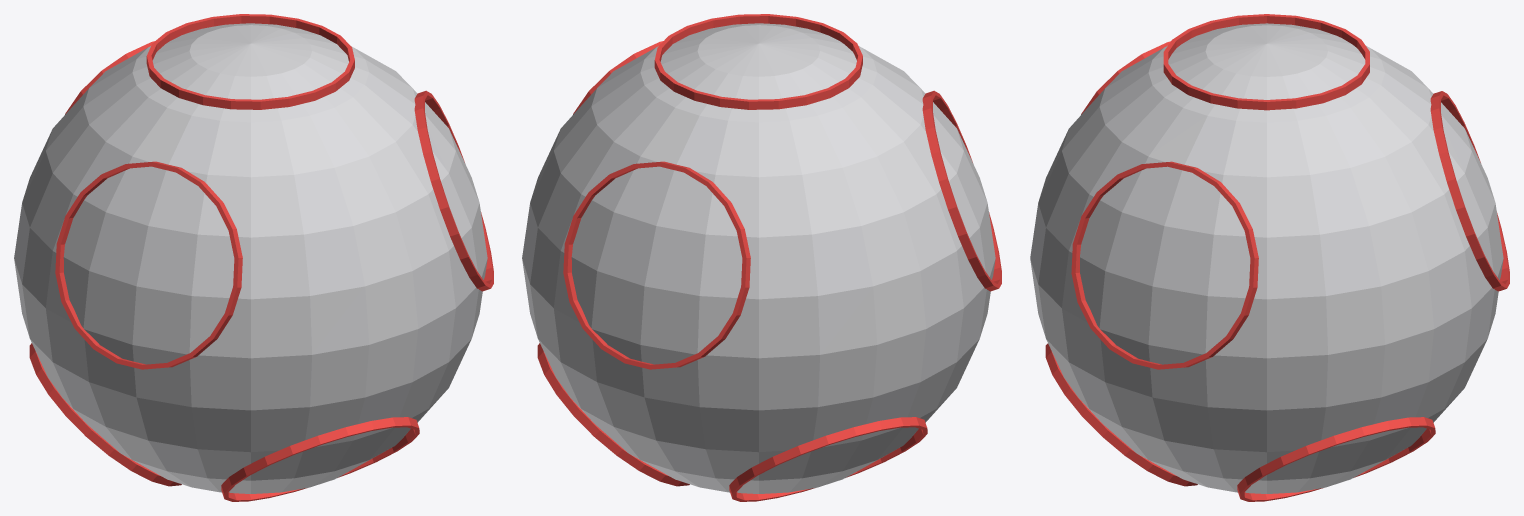
The model's file is vge_e_gravhulk_orb.obj.
3 renders of one model, left to right at view 1: azimuth 30°, elevation 25°; view 2: azimuth 150°, elevation 25°; view 3: azimuth 270°, elevation 25°, orthographic.
Visible parts, largest first — view 1: vge_gravhulk_orb_0, vge_gravhulk_orb_1, vge_gravhulk_orb_4, vge_gravhulk_orb_6, vge_gravhulk_orb_3, vge_gravhulk_orb_7; view 2: vge_gravhulk_orb_0, vge_gravhulk_orb_1, vge_gravhulk_orb_2, vge_gravhulk_orb_7, vge_gravhulk_orb_4, vge_gravhulk_orb_5; view 3: vge_gravhulk_orb_0, vge_gravhulk_orb_1, vge_gravhulk_orb_3, vge_gravhulk_orb_5, vge_gravhulk_orb_2, vge_gravhulk_orb_6.
Boxes of the visible parts, box(x1,y1,x2,y2) form: vge_gravhulk_orb_0: box(14, 23, 487, 493); vge_gravhulk_orb_1: box(146, 14, 354, 109); vge_gravhulk_orb_4: box(55, 161, 242, 369); vge_gravhulk_orb_6: box(221, 417, 419, 501); vge_gravhulk_orb_3: box(414, 90, 493, 291); vge_gravhulk_orb_7: box(29, 343, 181, 486); vge_gravhulk_orb_0: box(522, 23, 995, 493); vge_gravhulk_orb_1: box(654, 14, 862, 109); vge_gravhulk_orb_2: box(563, 161, 750, 369); vge_gravhulk_orb_7: box(729, 417, 927, 501); vge_gravhulk_orb_4: box(922, 90, 1001, 291); vge_gravhulk_orb_5: box(537, 343, 689, 486); vge_gravhulk_orb_0: box(1030, 23, 1503, 493); vge_gravhulk_orb_1: box(1163, 14, 1369, 110); vge_gravhulk_orb_3: box(1071, 161, 1258, 369); vge_gravhulk_orb_5: box(1237, 417, 1435, 501); vge_gravhulk_orb_2: box(1430, 91, 1509, 291); vge_gravhulk_orb_6: box(1045, 343, 1197, 486).
Size of the model in its own units: 1.62 by 1.6 by 1.62.
